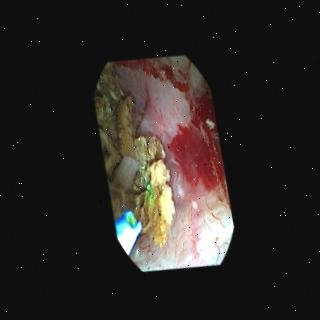fiber: (113, 210, 139, 250)
laser: (126, 214, 133, 222)
stone: (93, 62, 172, 244)
tissue: (120, 56, 229, 266)
